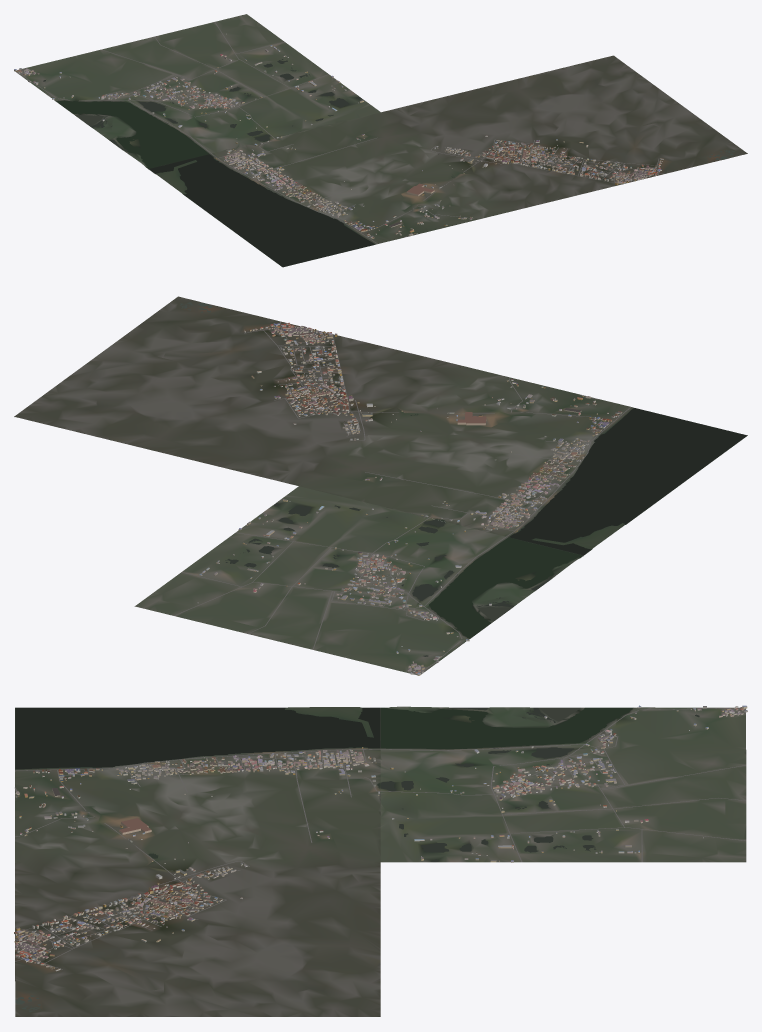
3 renders of one model, top to bottom at view 1: azimuth 30°, elevation 25°; view 2: azimuth 150°, elevation 25°; view 3: azimuth 270°, elevation 25°, orthographic. The views are drawn at different scales.
Visible parts, largest first — view 1: ground, water, buildings, roads; view 2: ground, water, buildings, roads; view 3: ground, water, buildings, roads.
Part boxes in pixels (<box>): ground: <box>15,14,747,267</box>; water: <box>43,59,734,266</box>; buildings: <box>14,33,663,238</box>; roads: <box>16,22,663,243</box>; ground: <box>14,296,747,675</box>; water: <box>180,302,747,656</box>; buildings: <box>197,322,622,675</box>; roads: <box>174,321,630,674</box>; ground: <box>15,706,746,1016</box>; water: <box>15,707,699,1011</box>; buildings: <box>14,705,747,971</box>; roads: <box>15,707,745,969</box>.
Size of the model in its own units: 2816 by 15.3 by 2814.
